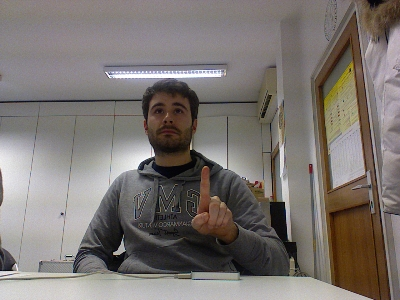食指: (190, 164, 234, 236)
